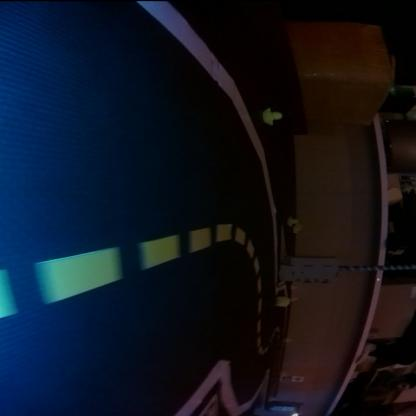Duckie: (264, 108, 284, 124), (278, 298, 290, 306), (288, 220, 298, 226)
